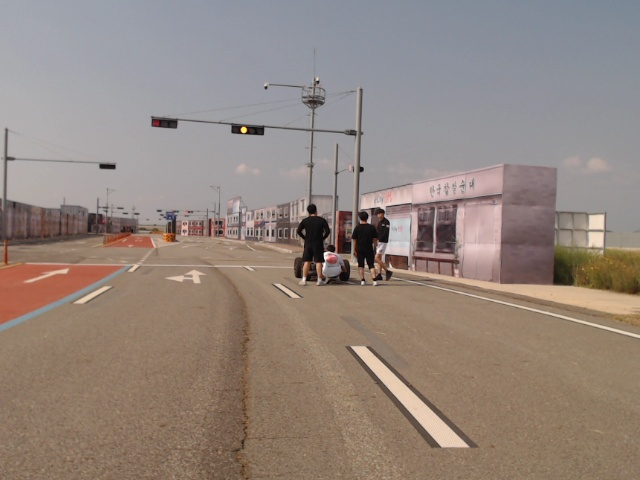orange_4: (230, 122, 266, 136)
